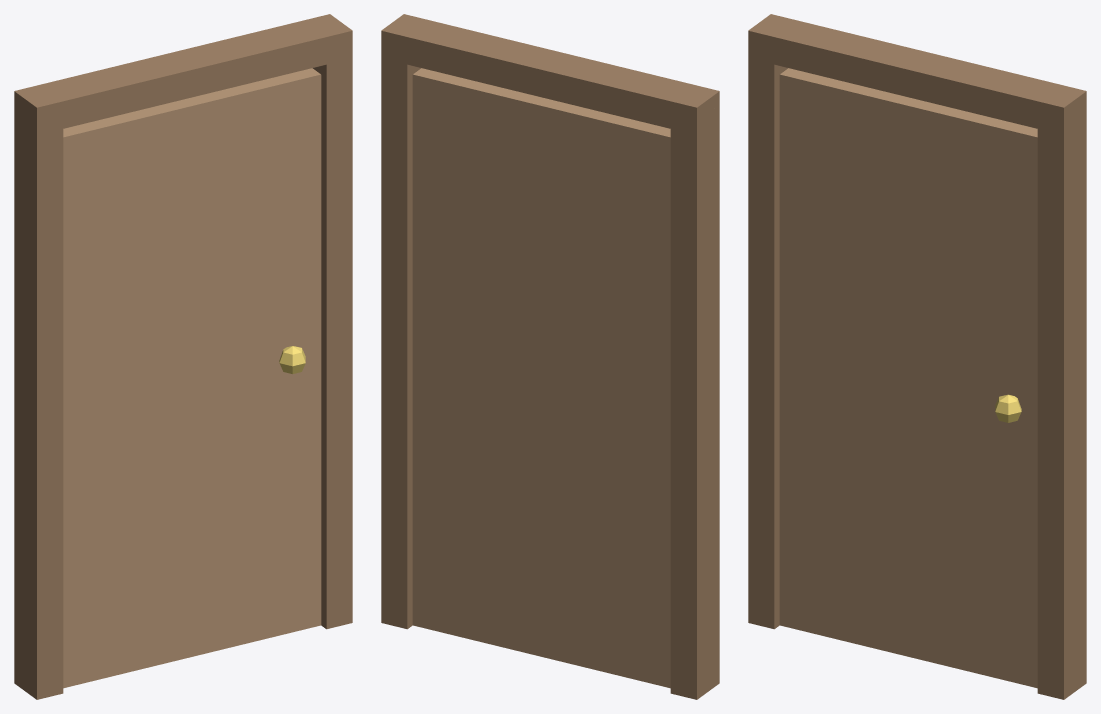
Rendered from puerta.glb.
3 renders of one model, left to right at view 1: azimuth 30°, elevation 25°; view 2: azimuth 150°, elevation 25°; view 3: azimuth 330°, elevation 25°, orthographic.
Parts seen in each view (by area): view 1: hoja, marco; view 2: hoja, marco; view 3: hoja, marco.
Boxes of the visible parts, <box> form: hoja: <box>63,68,321,688</box>; marco: <box>14,14,352,699</box>; hoja: <box>412,68,670,688</box>; marco: <box>381,14,719,699</box>; hoja: <box>779,68,1037,688</box>; marco: <box>748,14,1086,699</box>.
Size of the model in its own units: 1.2 by 2.15 by 0.1783.
